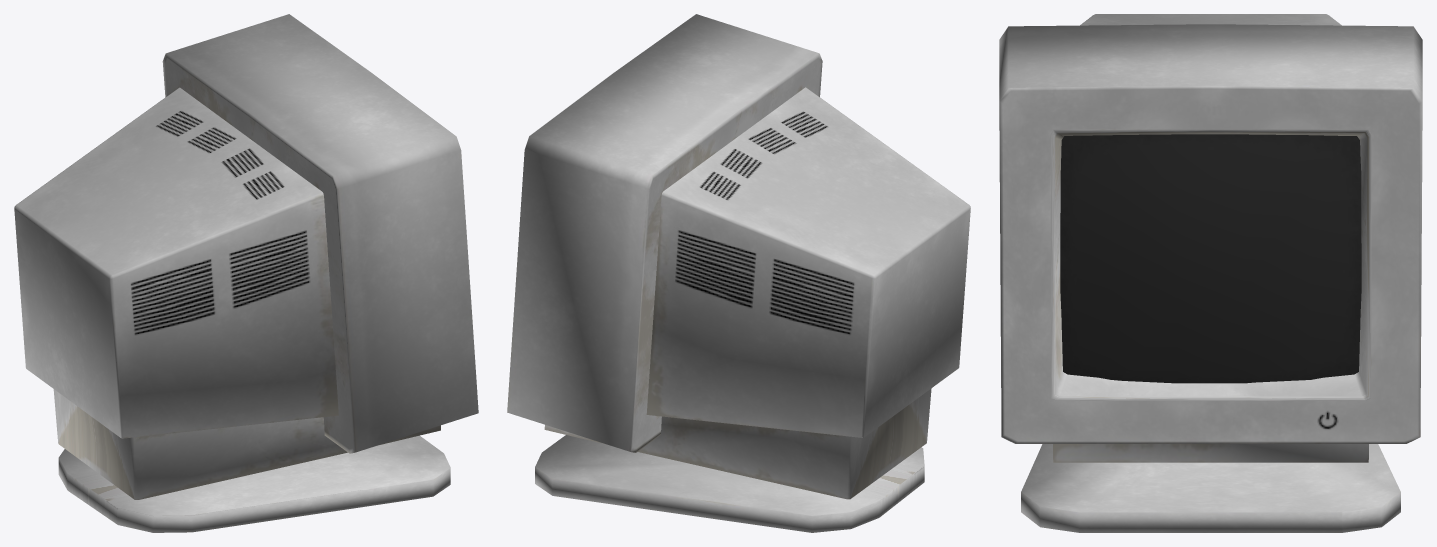
The model's file is Computer.fbx.
3 views of the same model, side by side, from view 1: azimuth 30°, elevation 25°; view 2: azimuth 150°, elevation 25°; view 3: azimuth 270°, elevation 25° (orthographic). The views are drawn at different scales.
Visible parts, largest first — view 1: Computer; view 2: Computer; view 3: Computer.
Boxes of the visible parts, x1=… form: Computer: x1=14, y1=14, x2=478, y2=532; Computer: x1=507, y1=14, x2=970, y2=532; Computer: x1=999, y1=14, x2=1422, y2=532.
Bounding box in the file's own units: 218 × 228 × 200.
Materials: 1 (1 with a texture image).
